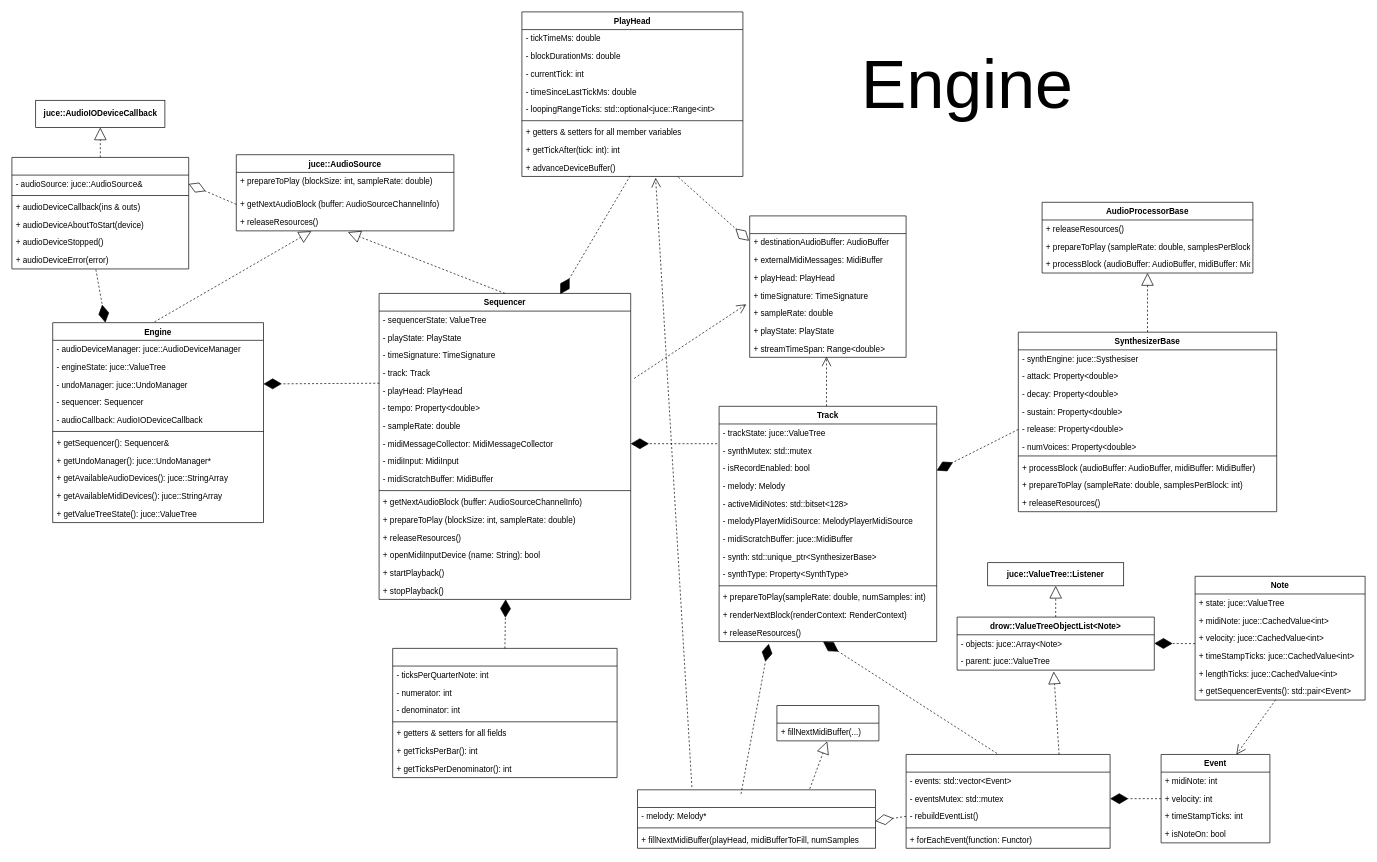
Image size: 1377x862. Some labels were removed from this diagram. The box of each missing label's shape, as (x1, y1, x2, y2) in pixels:
AudioIODeviceCallback: (11, 157, 189, 269)
Melody: (905, 754, 1110, 848)
MelodyPlayerMidiSource: (637, 789, 876, 848)
MidiSource: (776, 705, 879, 741)
RenderContext: (749, 215, 906, 357)
TimeSignature: (392, 648, 617, 778)
